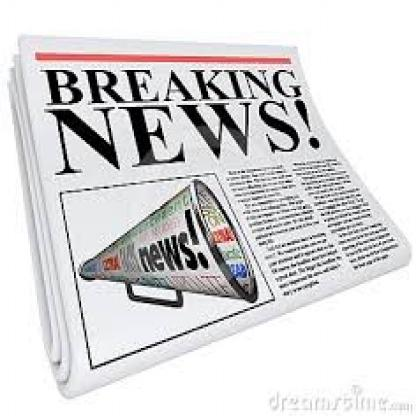Paper: (3, 15, 416, 416)
